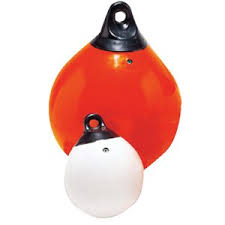buoy: (46, 42, 182, 170)
